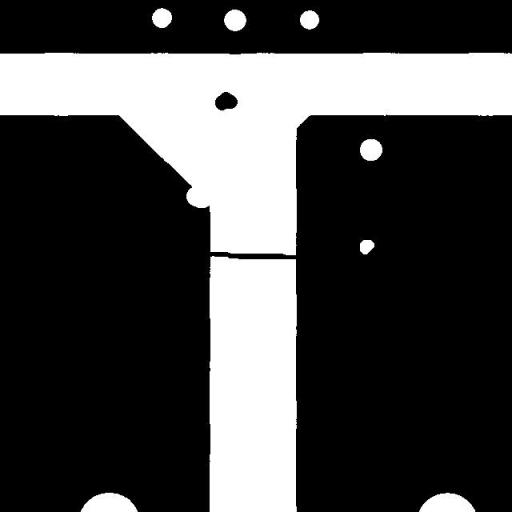copper: (207, 84, 245, 118)
mousebite: (178, 178, 220, 216)
pin-hole: (352, 232, 382, 262)
short: (198, 244, 304, 266)
